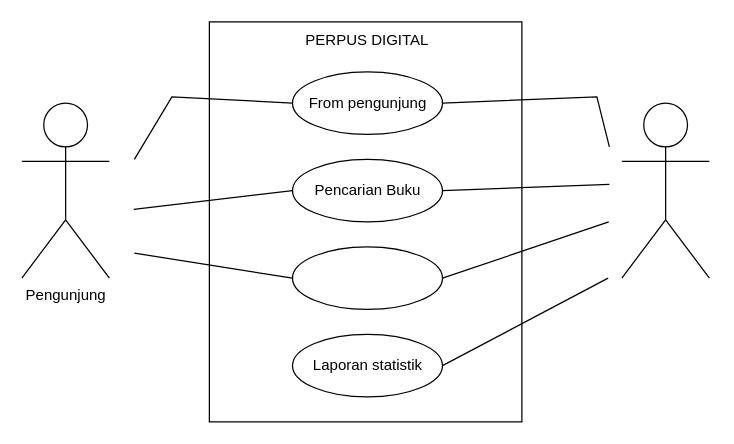
This 734x444 diagram has some shape labels left out. Here are the shapes that lost their labels. From the top down, the box of each, then its label:
(621, 102, 709, 278): Perpustakaan
(291, 246, 442, 309): Detail Buku
